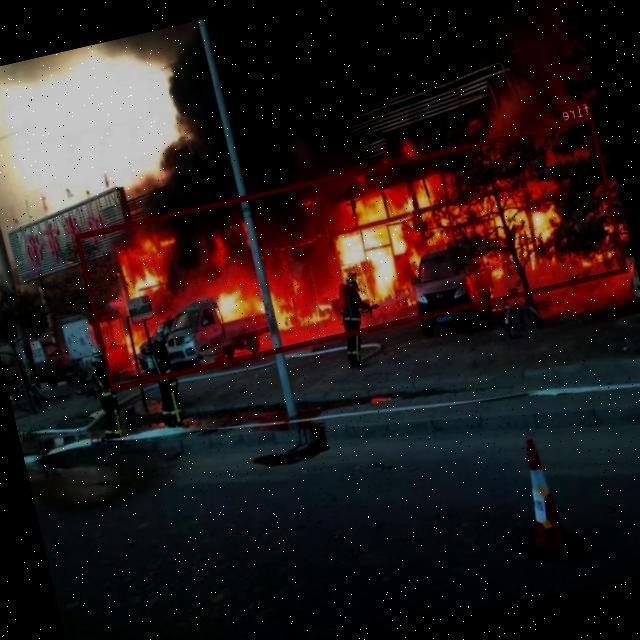fire: (75, 114, 628, 390)
